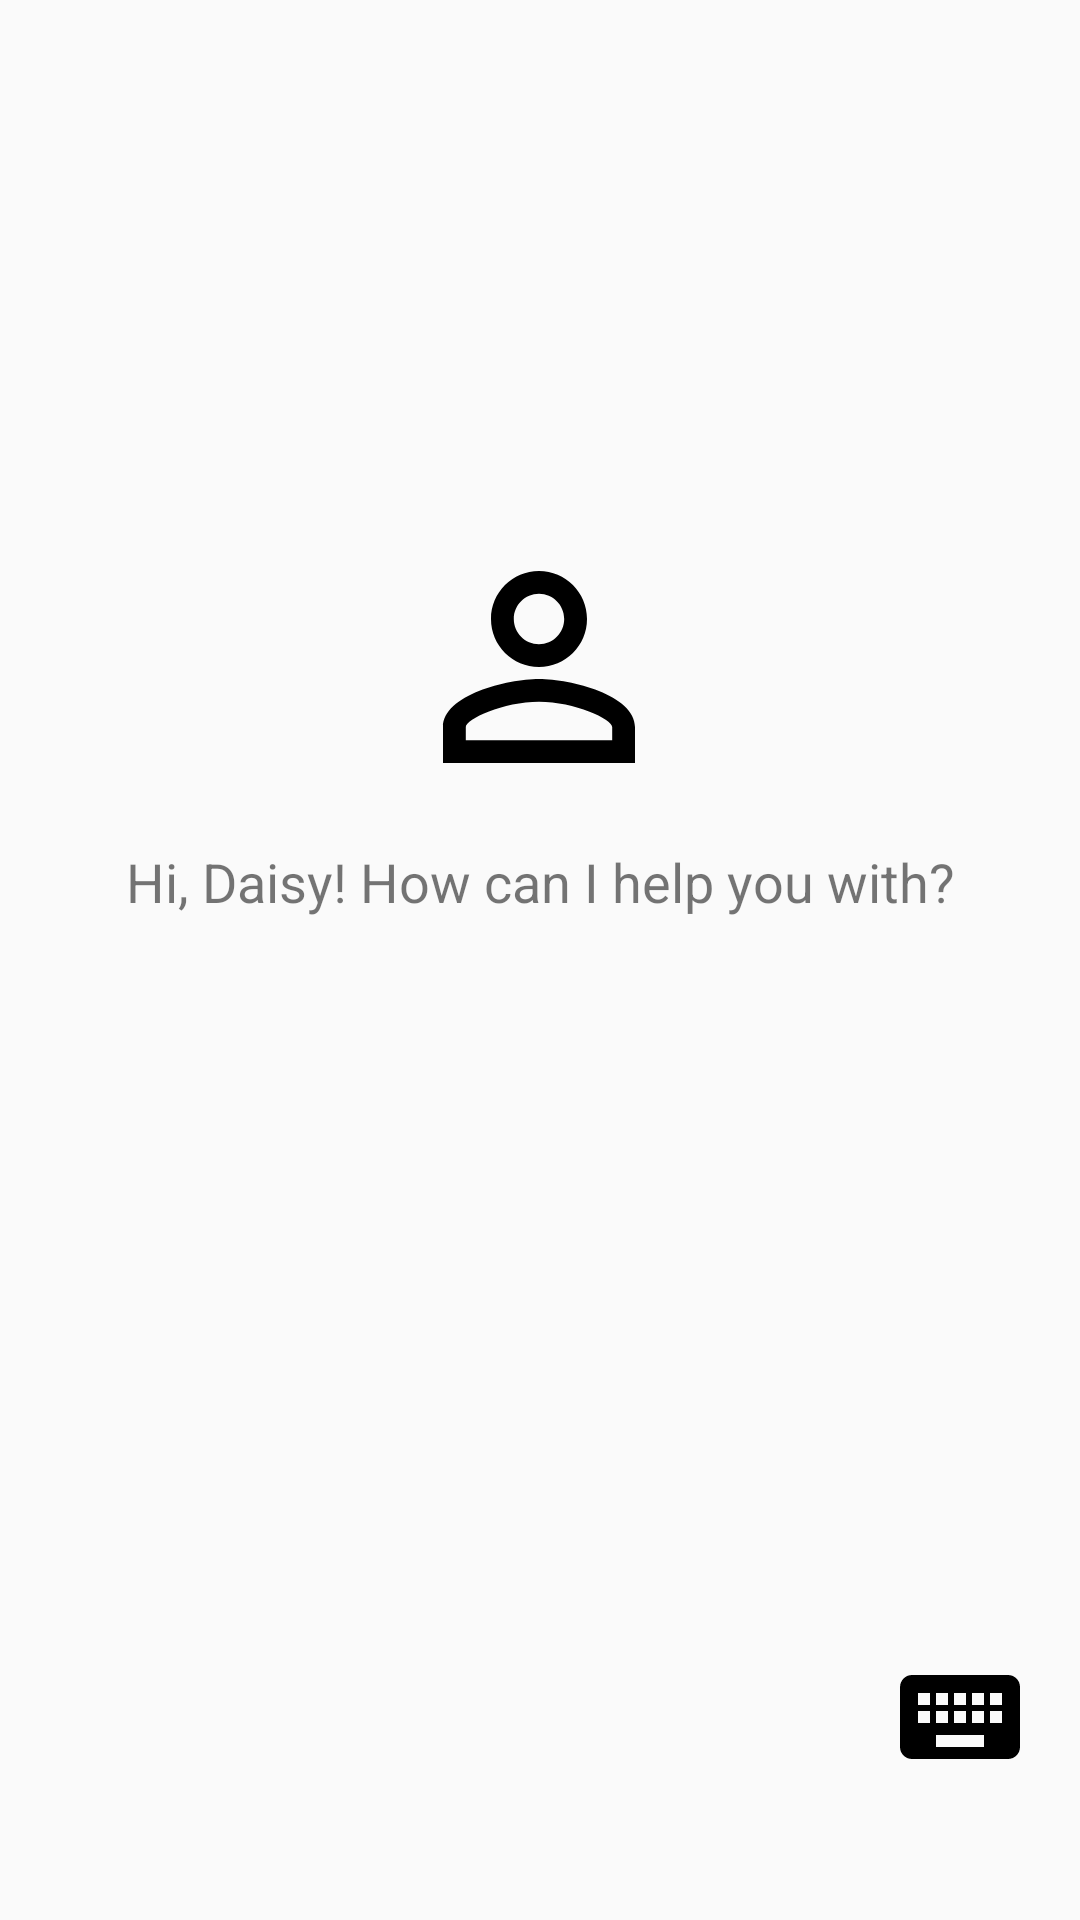

Screen size 1080*1920. Icon name, then its center in pixels as (x=x, y=y):
AIDr Avatar: (x=539, y=667)
Keyboard Button: (x=960, y=1717)
